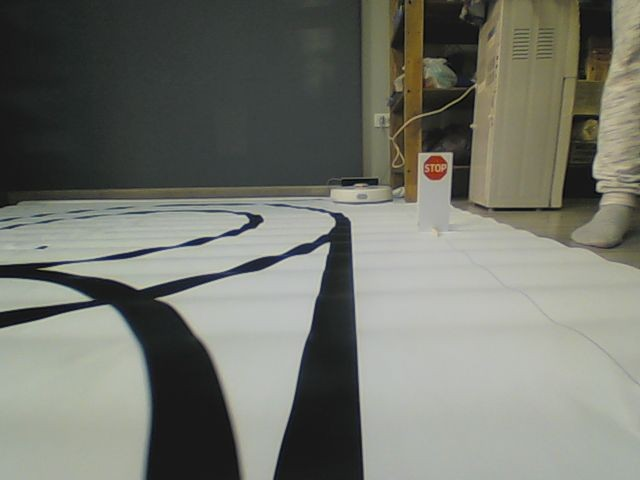Stop: (422, 155, 449, 179)
